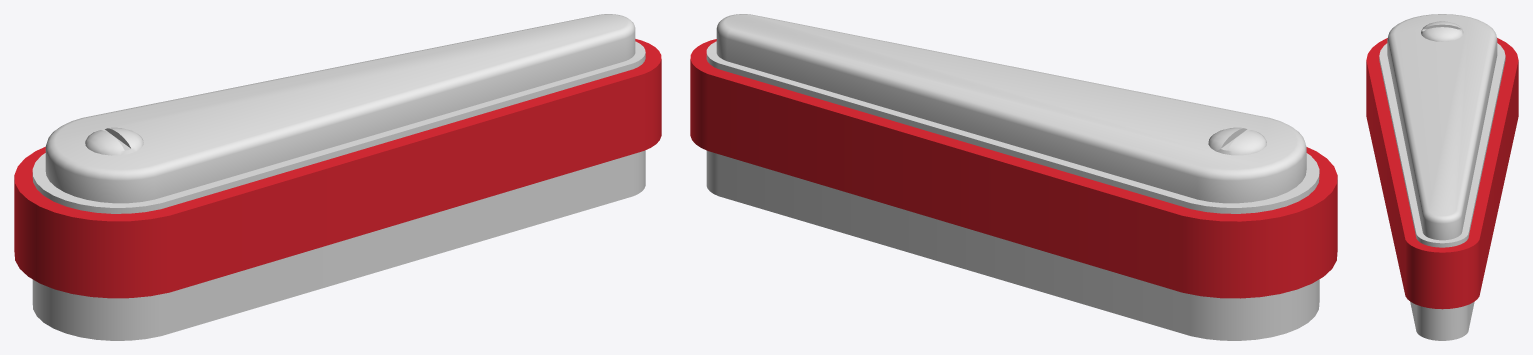
File: Flipper, Gottlieb, Variant 3 (3in).fbx
The picture shows the model from 3 angles, left to right: view 1: azimuth 30°, elevation 25°; view 2: azimuth 150°, elevation 25°; view 3: azimuth 270°, elevation 25°; orthographic projection. The views are drawn at different scales.
Parts seen in each view (by area): view 1: Flipper, Gottlieb, Variant 3 (3"); view 2: Flipper, Gottlieb, Variant 3 (3"); view 3: Flipper, Gottlieb, Variant 3 (3").
Boxes of the visible parts, x1=… form: Flipper, Gottlieb, Variant 3 (3"): x1=14, y1=14, x2=661, y2=340; Flipper, Gottlieb, Variant 3 (3"): x1=690, y1=14, x2=1337, y2=340; Flipper, Gottlieb, Variant 3 (3"): x1=1366, y1=14, x2=1518, y2=340.
Bounding box in the file's own units: 7.85 × 2.06 × 2.25.
